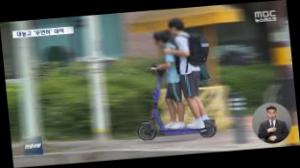multiple: (127, 16, 219, 143)
